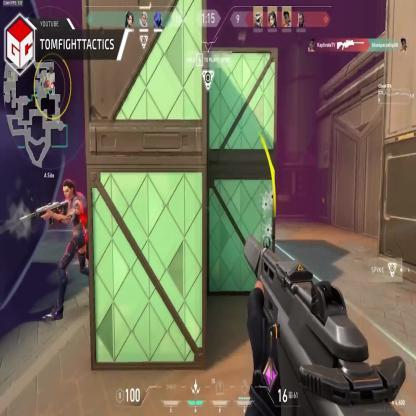enemy: (46, 180, 98, 322)
enemy_head: (62, 179, 75, 200)
